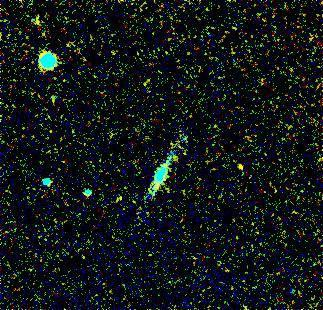star: (225, 153, 255, 183)
